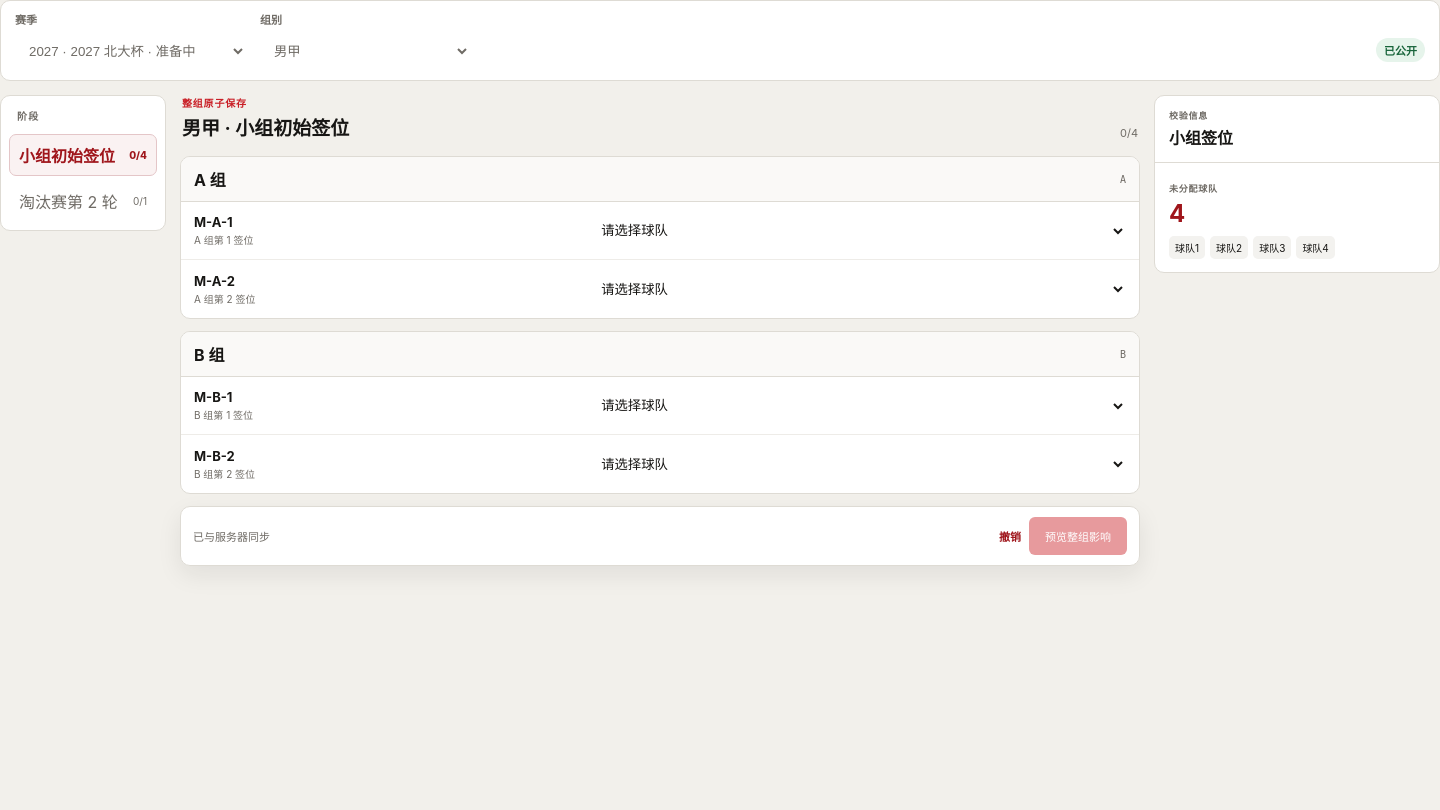
Scenario: DrawMappingPage › derives each game dirty state from the current server baseline
Click the button "淘汰赛第 2 轮 0/1" at (83, 201), box [9,180,157,222]
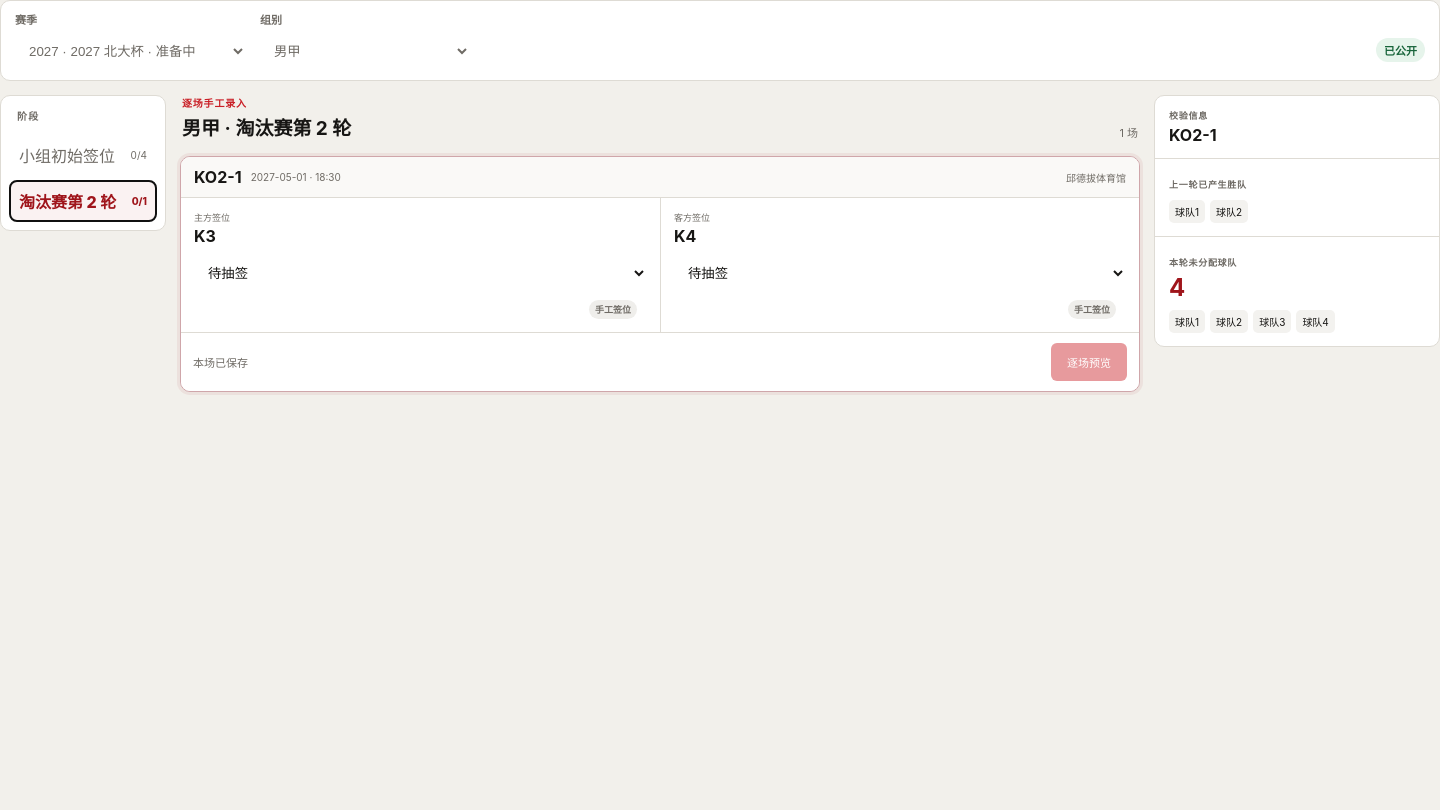
Select "球队3" in the dropdown named "KO2-1 主方球队" at (420, 273), box [194,254,647,292]
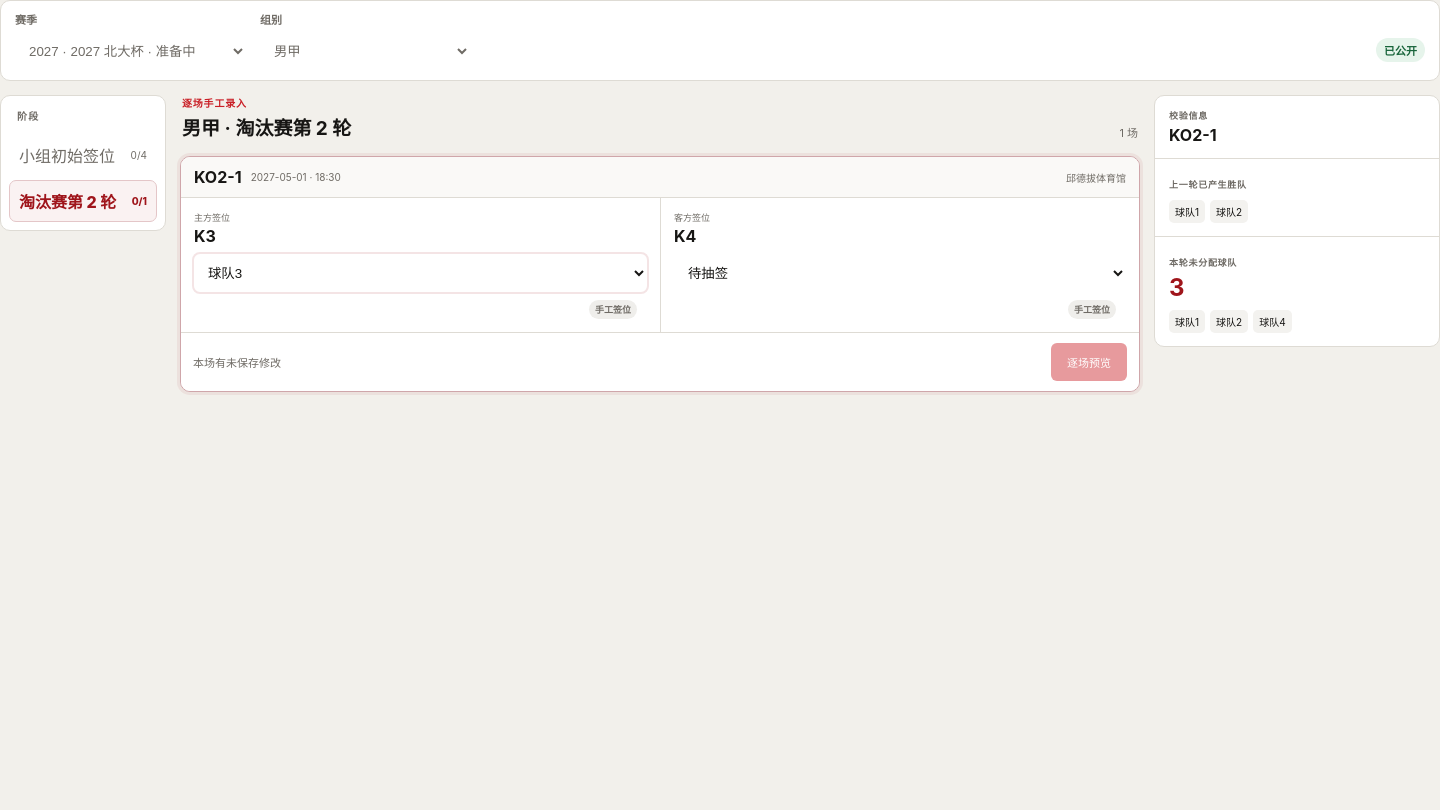
Select "球队2" in the dropdown named "KO2-1 客方球队" at (900, 273), box [674,254,1126,292]
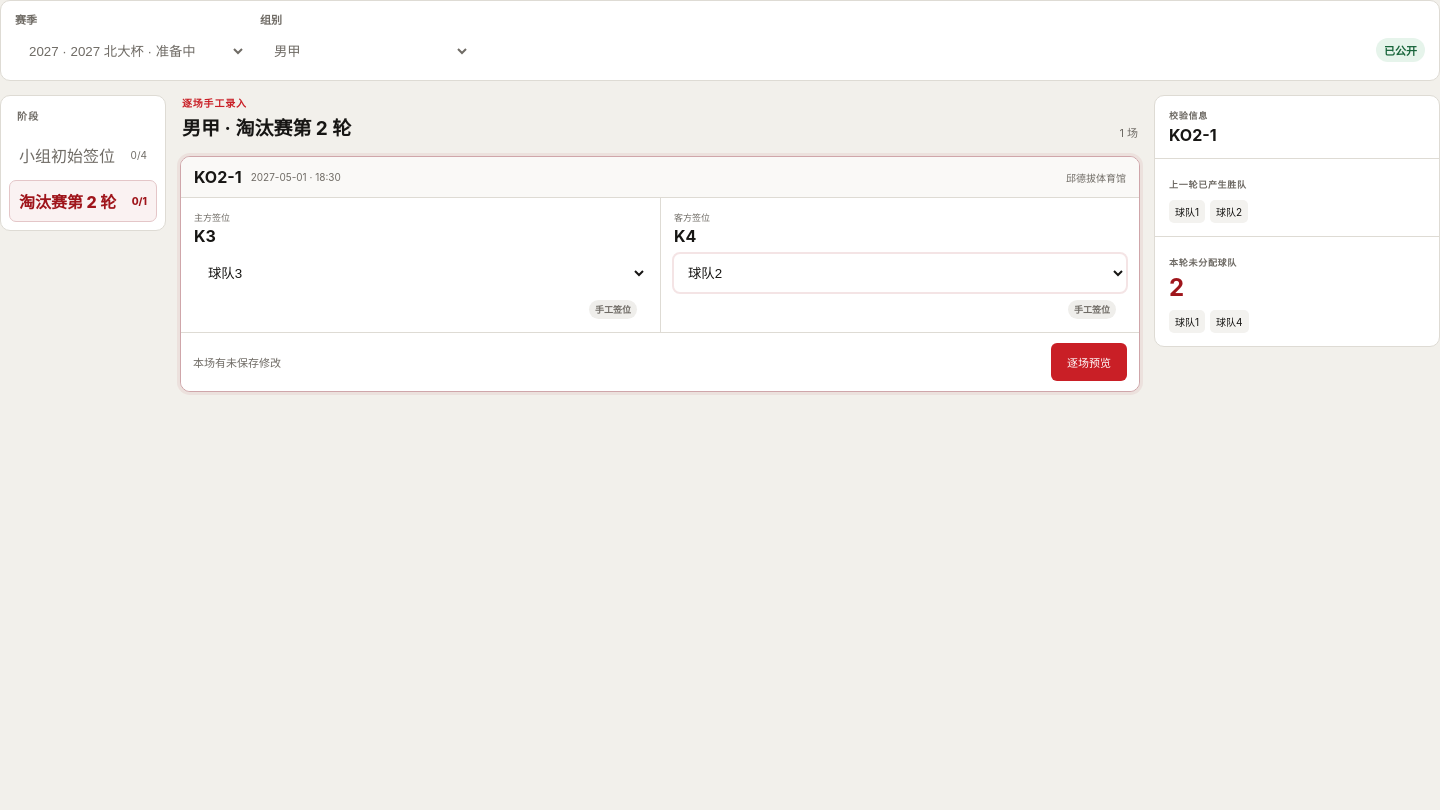
Check: the text "本场有未保存修改" is shown, box [193,354,281,370]
Select "待抽签" in the dropdown named "KO2-1 主方球队" at (420, 273), box [194,254,647,292]
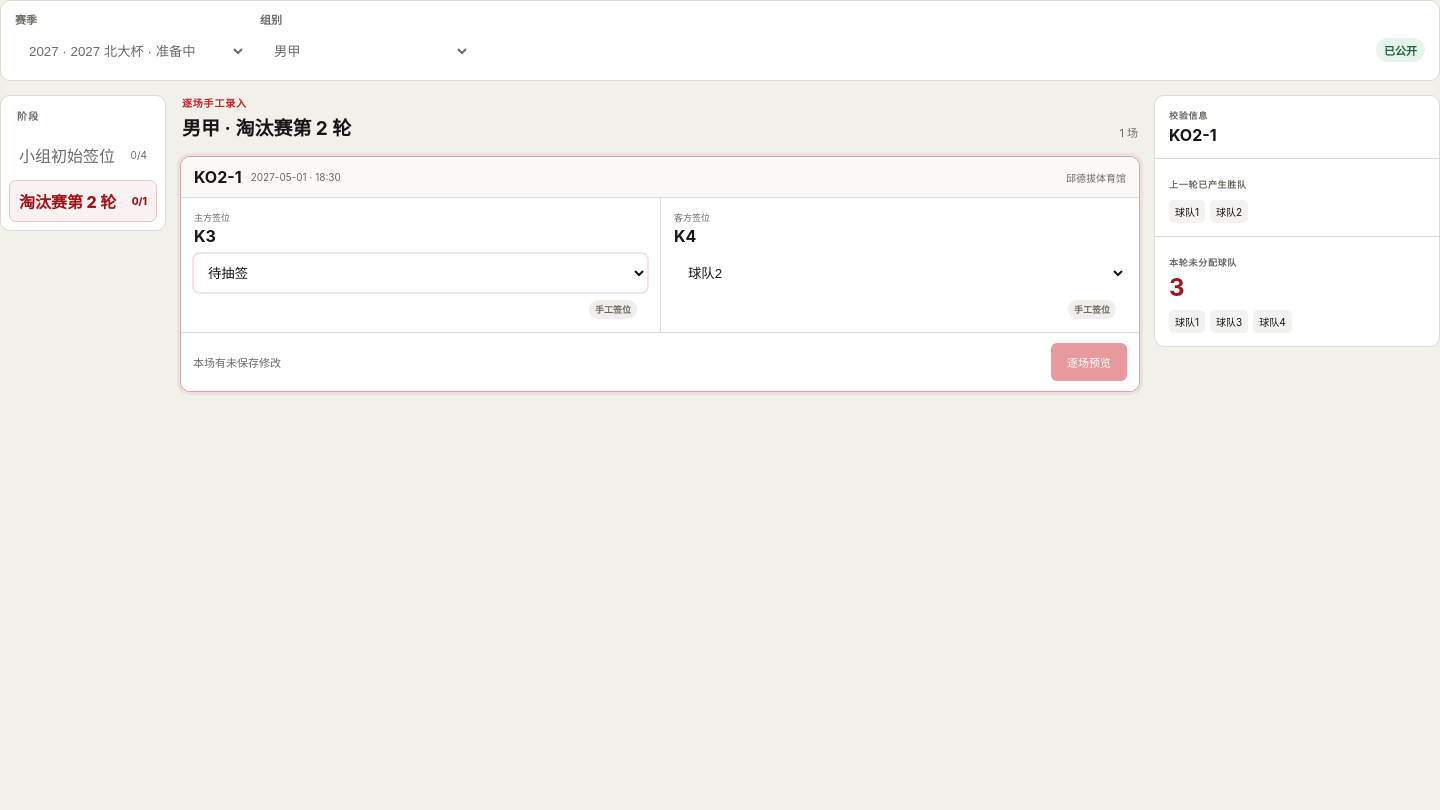
Select "待抽签" in the dropdown named "KO2-1 客方球队" at (900, 273), box [674,254,1126,292]
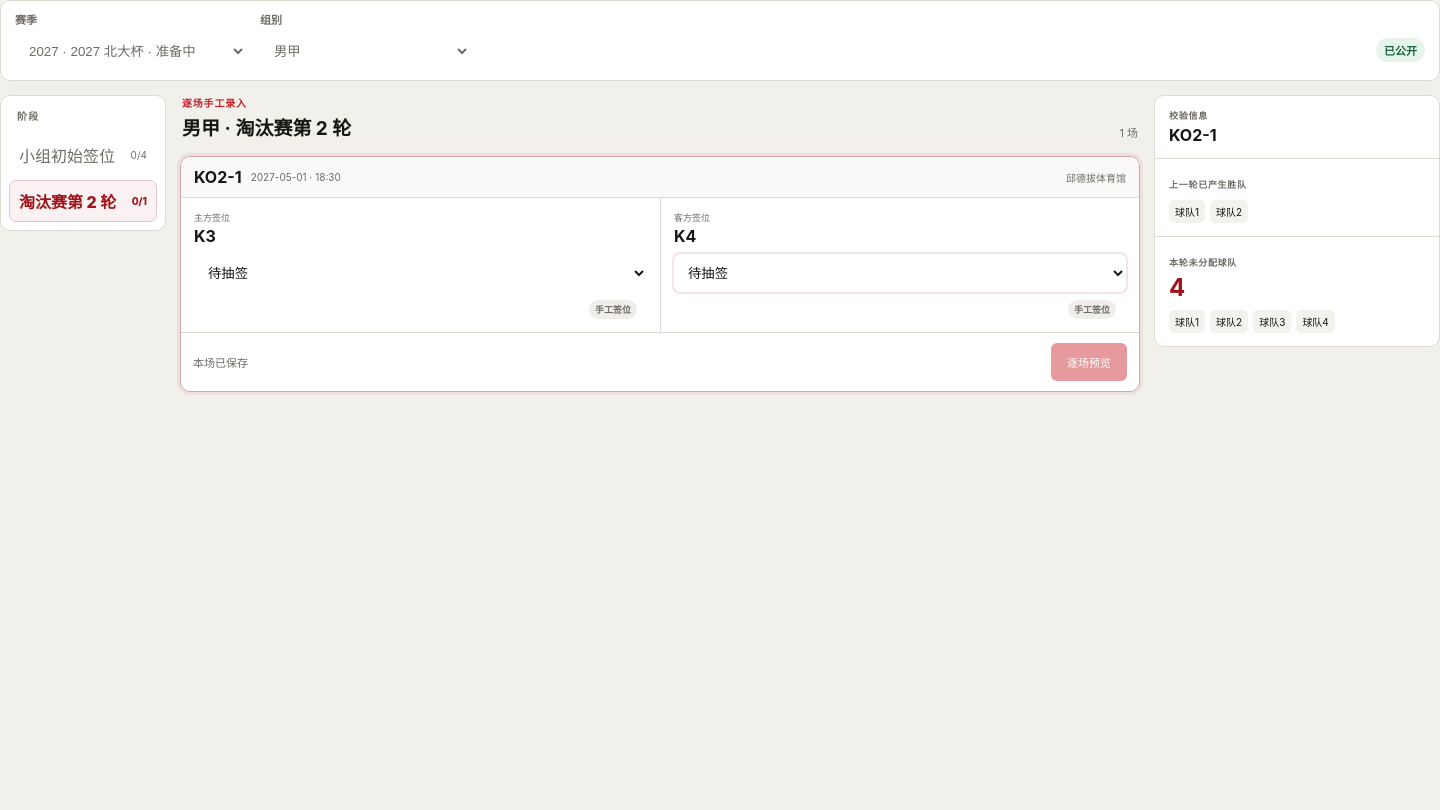
Check: the text "本场已保存" is shown, box [193,354,248,370]
Select "球队3" in the dropdown named "KO2-1 主方球队" at (420, 273), box [194,254,647,292]
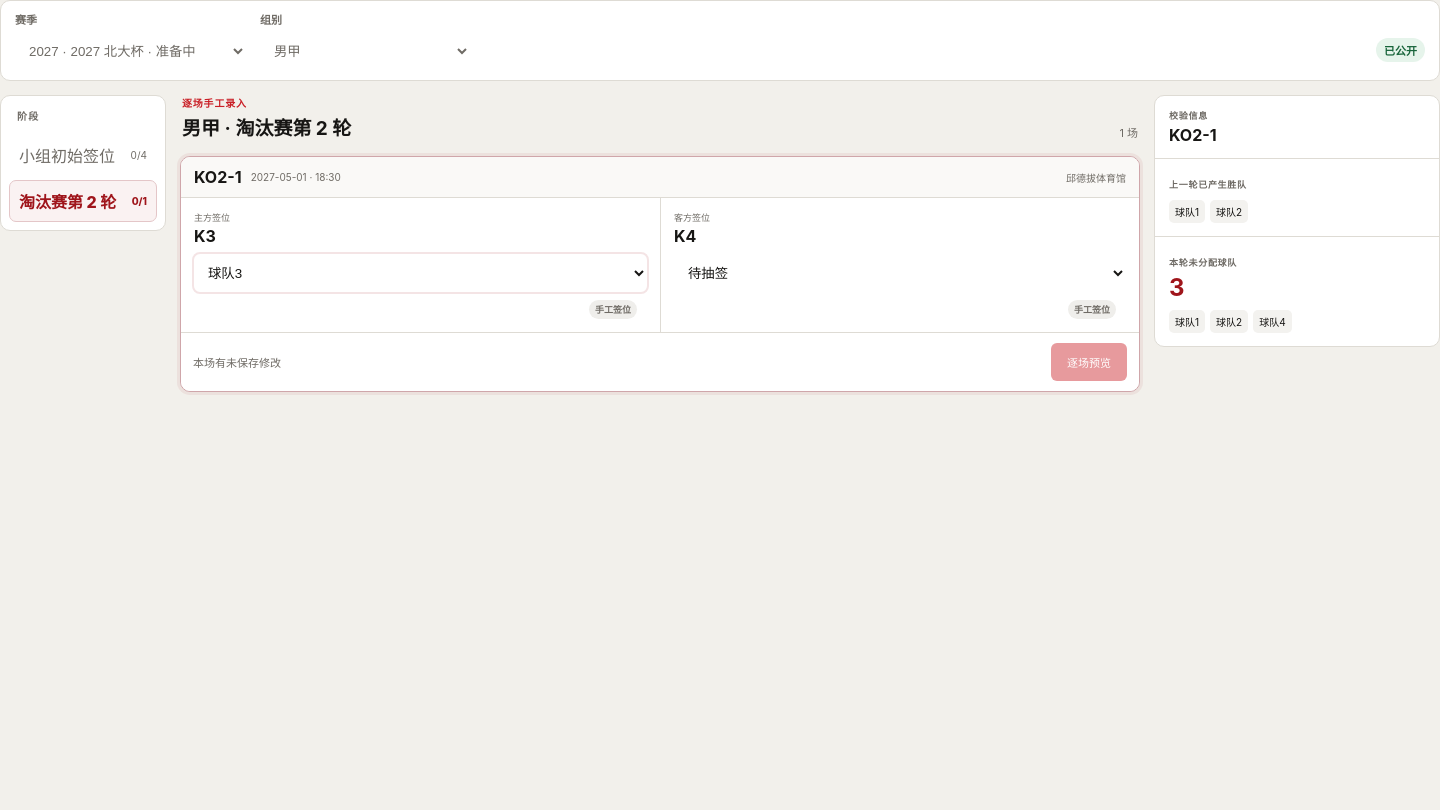
Check: the text "本场有未保存修改" is shown, box [193,354,281,370]
